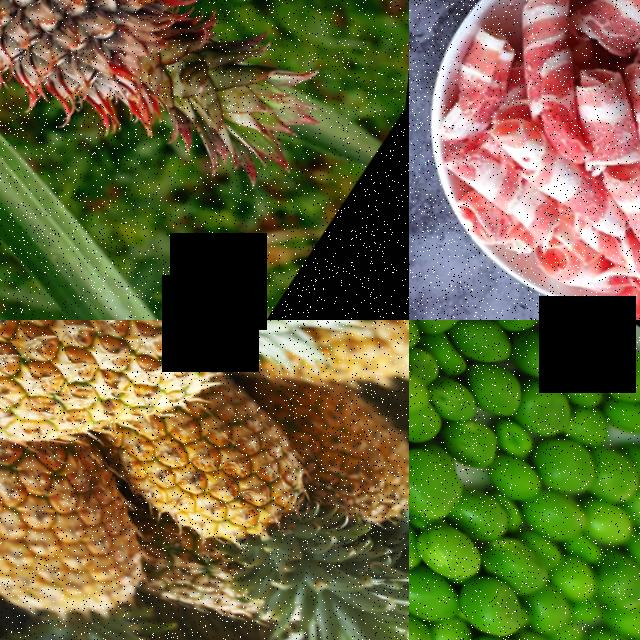peas: (409, 320, 640, 640)
pineapple: (0, 0, 300, 191), (108, 394, 355, 589), (0, 408, 181, 640), (0, 320, 291, 458), (272, 371, 409, 547)
pork belly: (426, 96, 640, 275), (454, 0, 640, 160)
